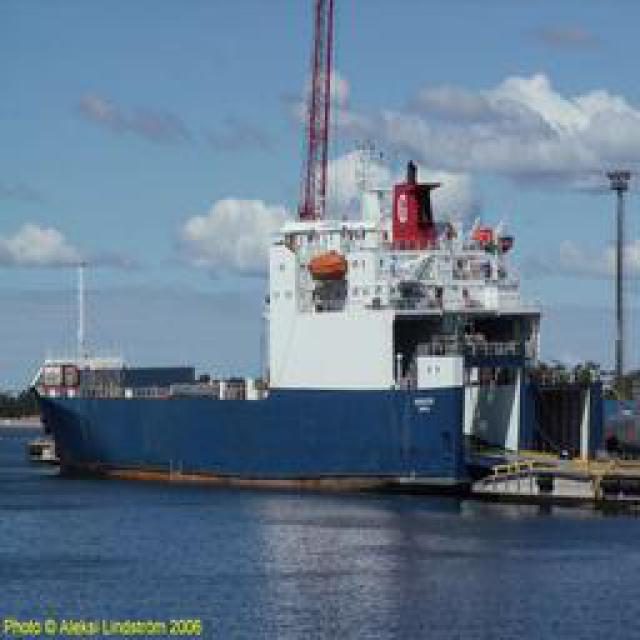Ship: (38, 18, 573, 493)
